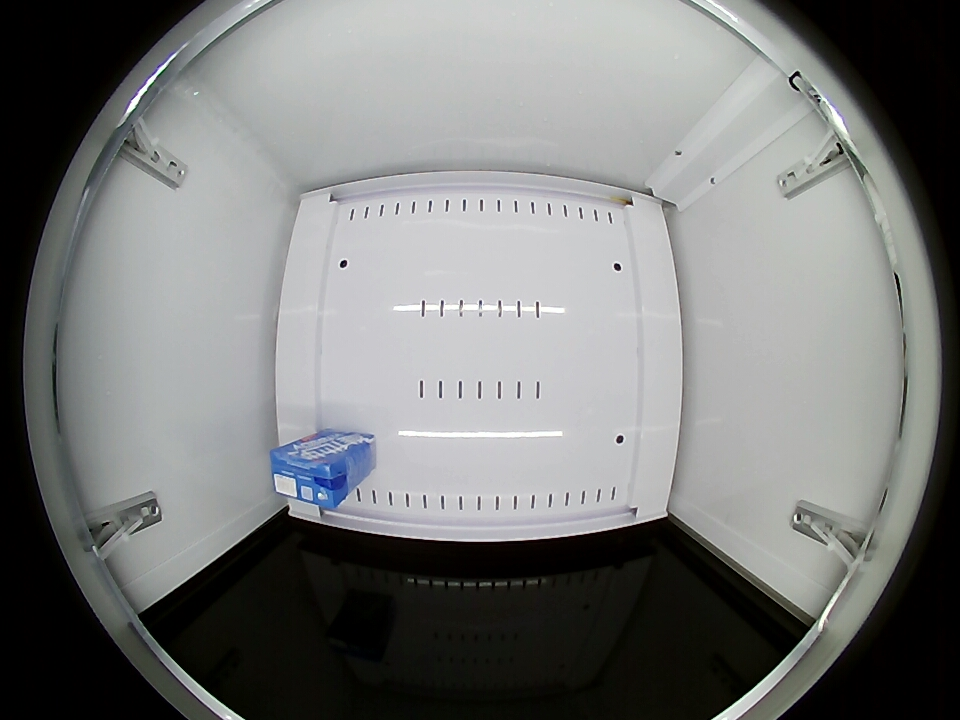weitanai: (269, 442, 353, 510)
